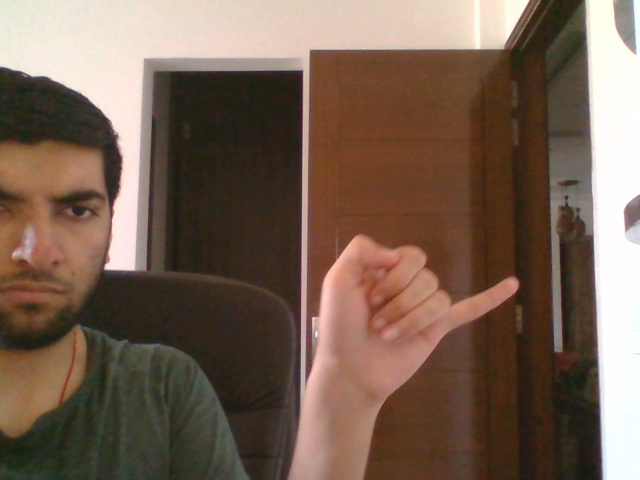LetterJ: (317, 233, 519, 402)
